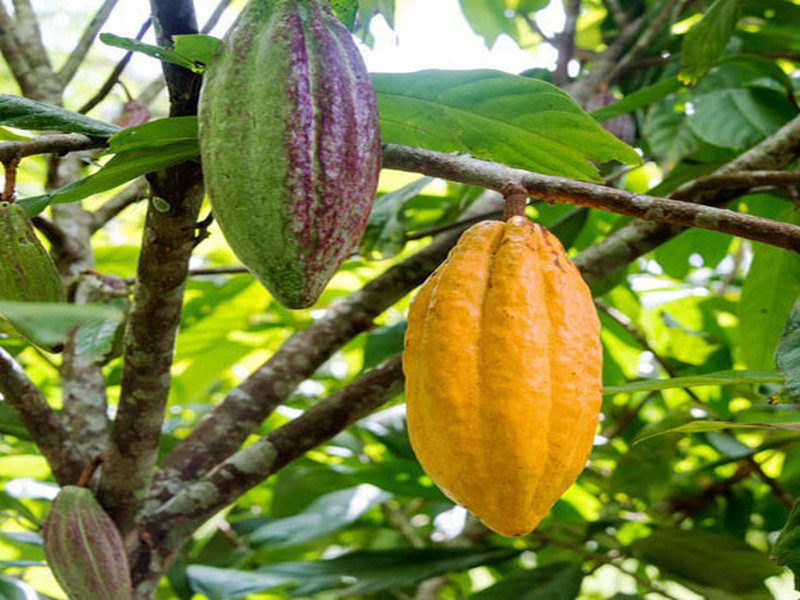Cacaopod: (398, 213, 608, 541), (196, 1, 381, 311)
